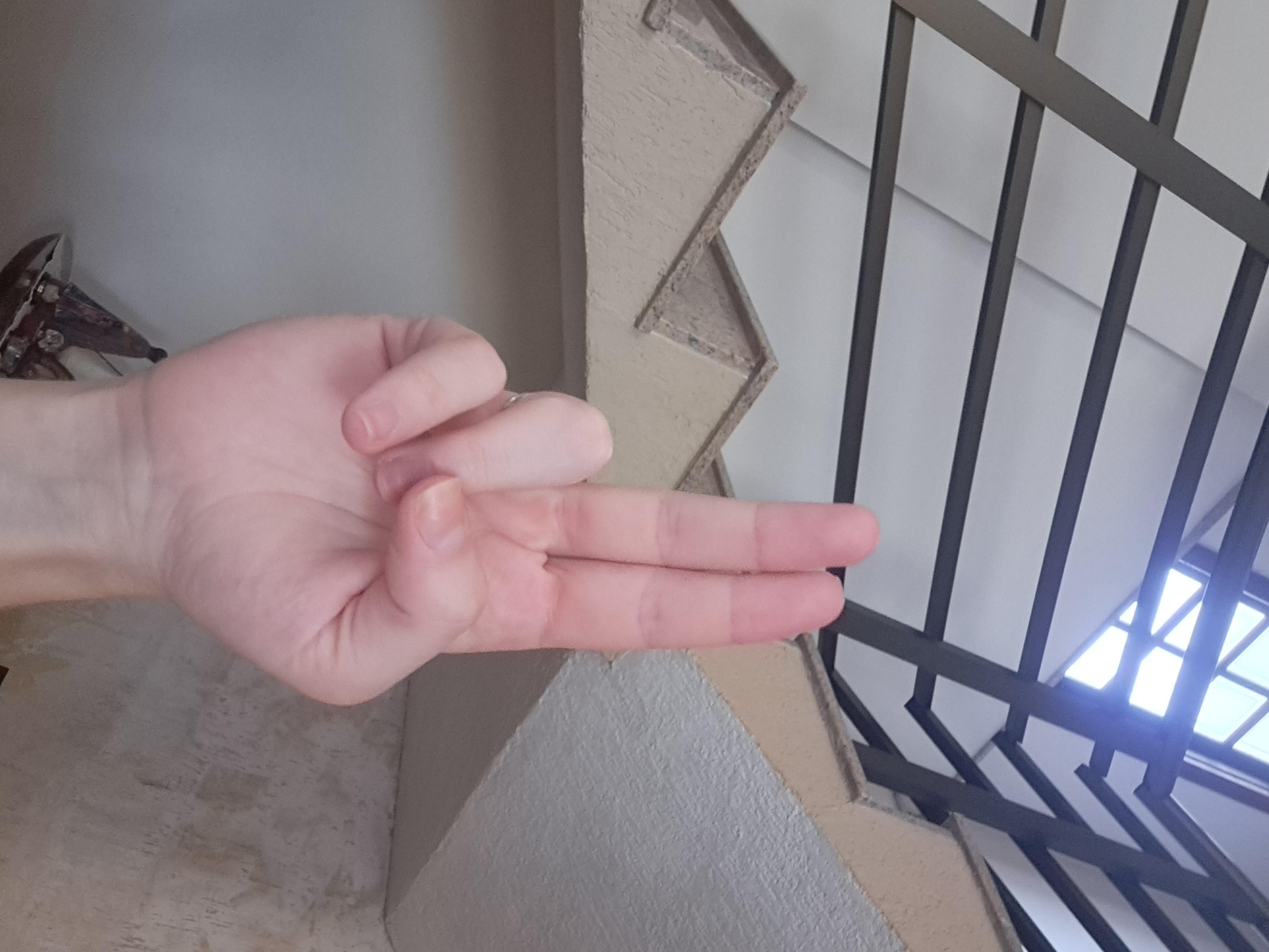U: (404, 292, 959, 840)
